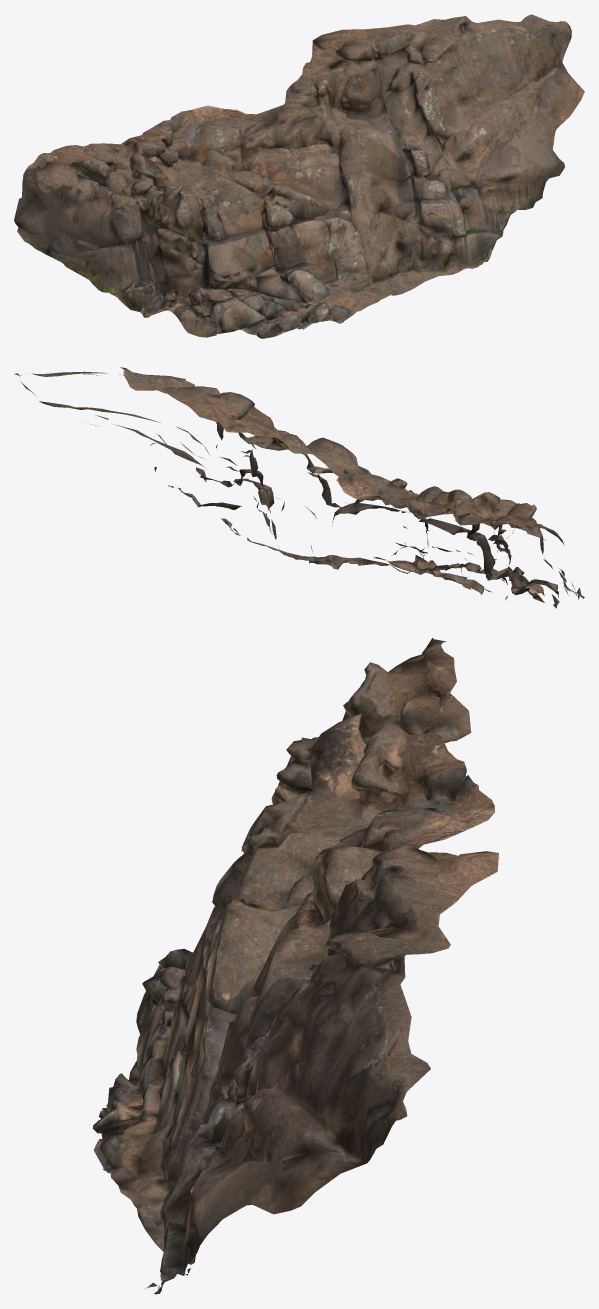
Rendered from hill_cliff.glb.
3 views of the same model, one above another, from view 1: azimuth 30°, elevation 25°; view 2: azimuth 150°, elevation 25°; view 3: azimuth 270°, elevation 25° (orthographic). The views are drawn at different scales.
Parts seen in each view (by area): view 1: hill_cliff; view 2: hill_cliff; view 3: hill_cliff.
Boxes of the visible parts, bbox=[...] form: hill_cliff: bbox=[14, 14, 584, 338]; hill_cliff: bbox=[14, 367, 584, 608]; hill_cliff: bbox=[92, 637, 499, 1294].
Bounding box in the file's own units: 20.23 × 7.17 × 6.58.
1 material, 1 textured.
